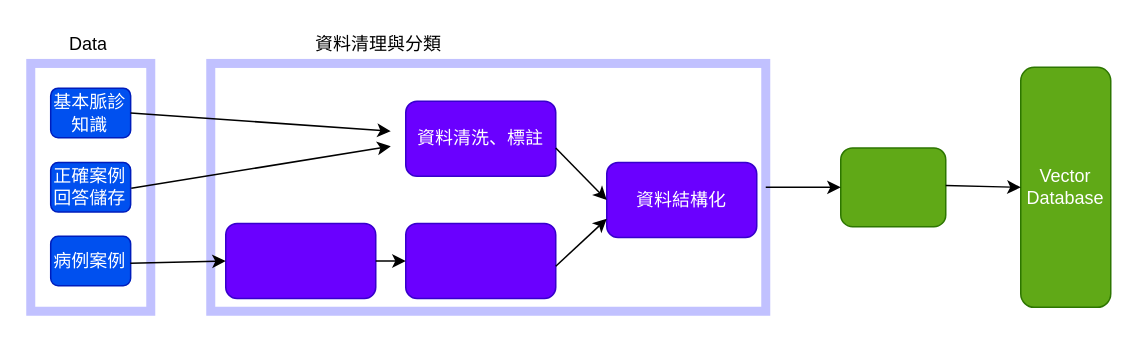
This 1137x341 diagram has some shape labels left out. The shapes that lost their labels are listed below. From the top down, each one's centre as x and y in pixels, then its label:
At pixel 892 186: "Embedding".
At pixel 300 260: "去個資、病例摘要".
At pixel 480 260: "模型計算主次病權重與分類主次病".
